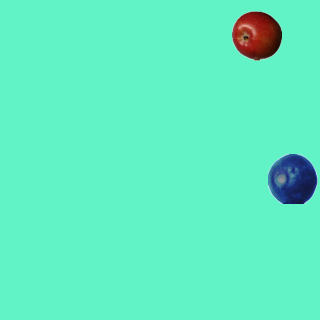Apple Braeburn: (231, 10, 281, 60)
Huckleberry: (267, 153, 317, 203)
